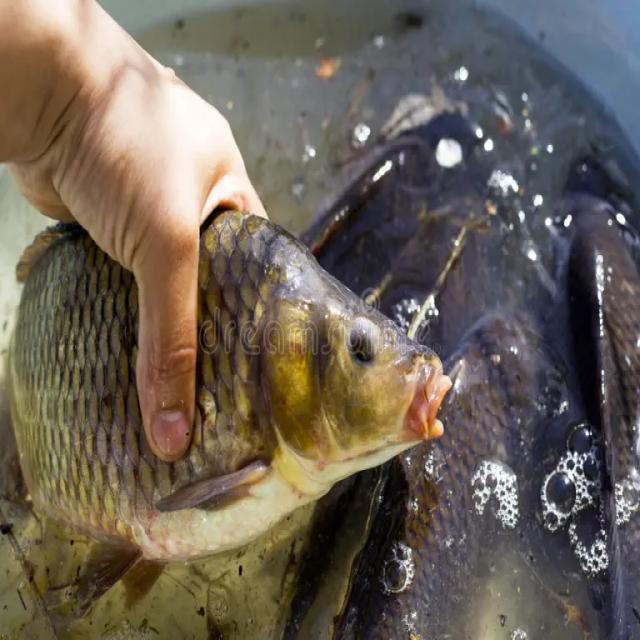Common carp: (8, 212, 451, 622)
